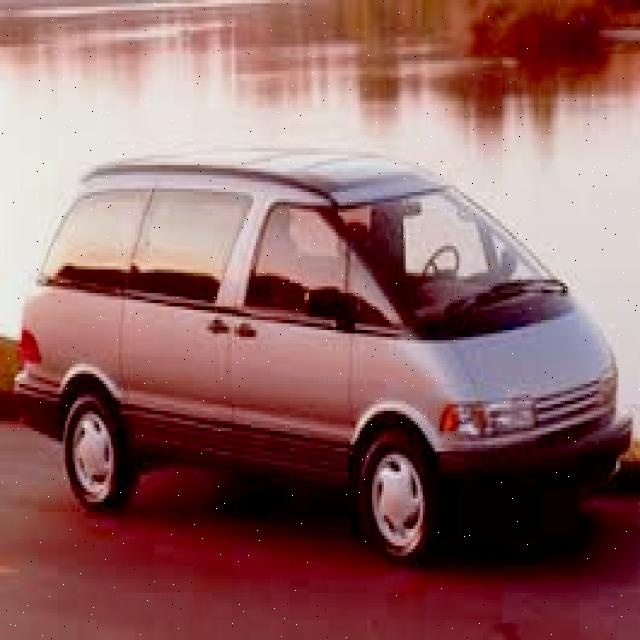Van: (24, 152, 630, 559)
